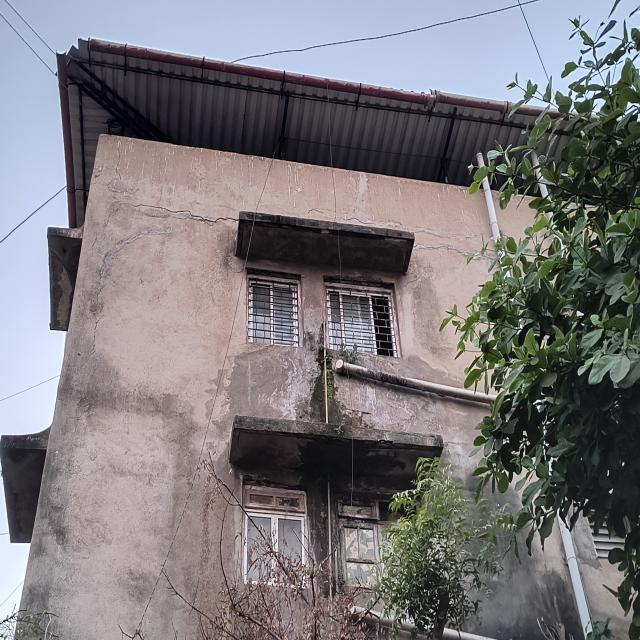crack: (123, 203, 238, 225), (89, 263, 107, 361), (339, 215, 377, 225), (115, 139, 122, 181)
stain_mould: (309, 343, 367, 427)
